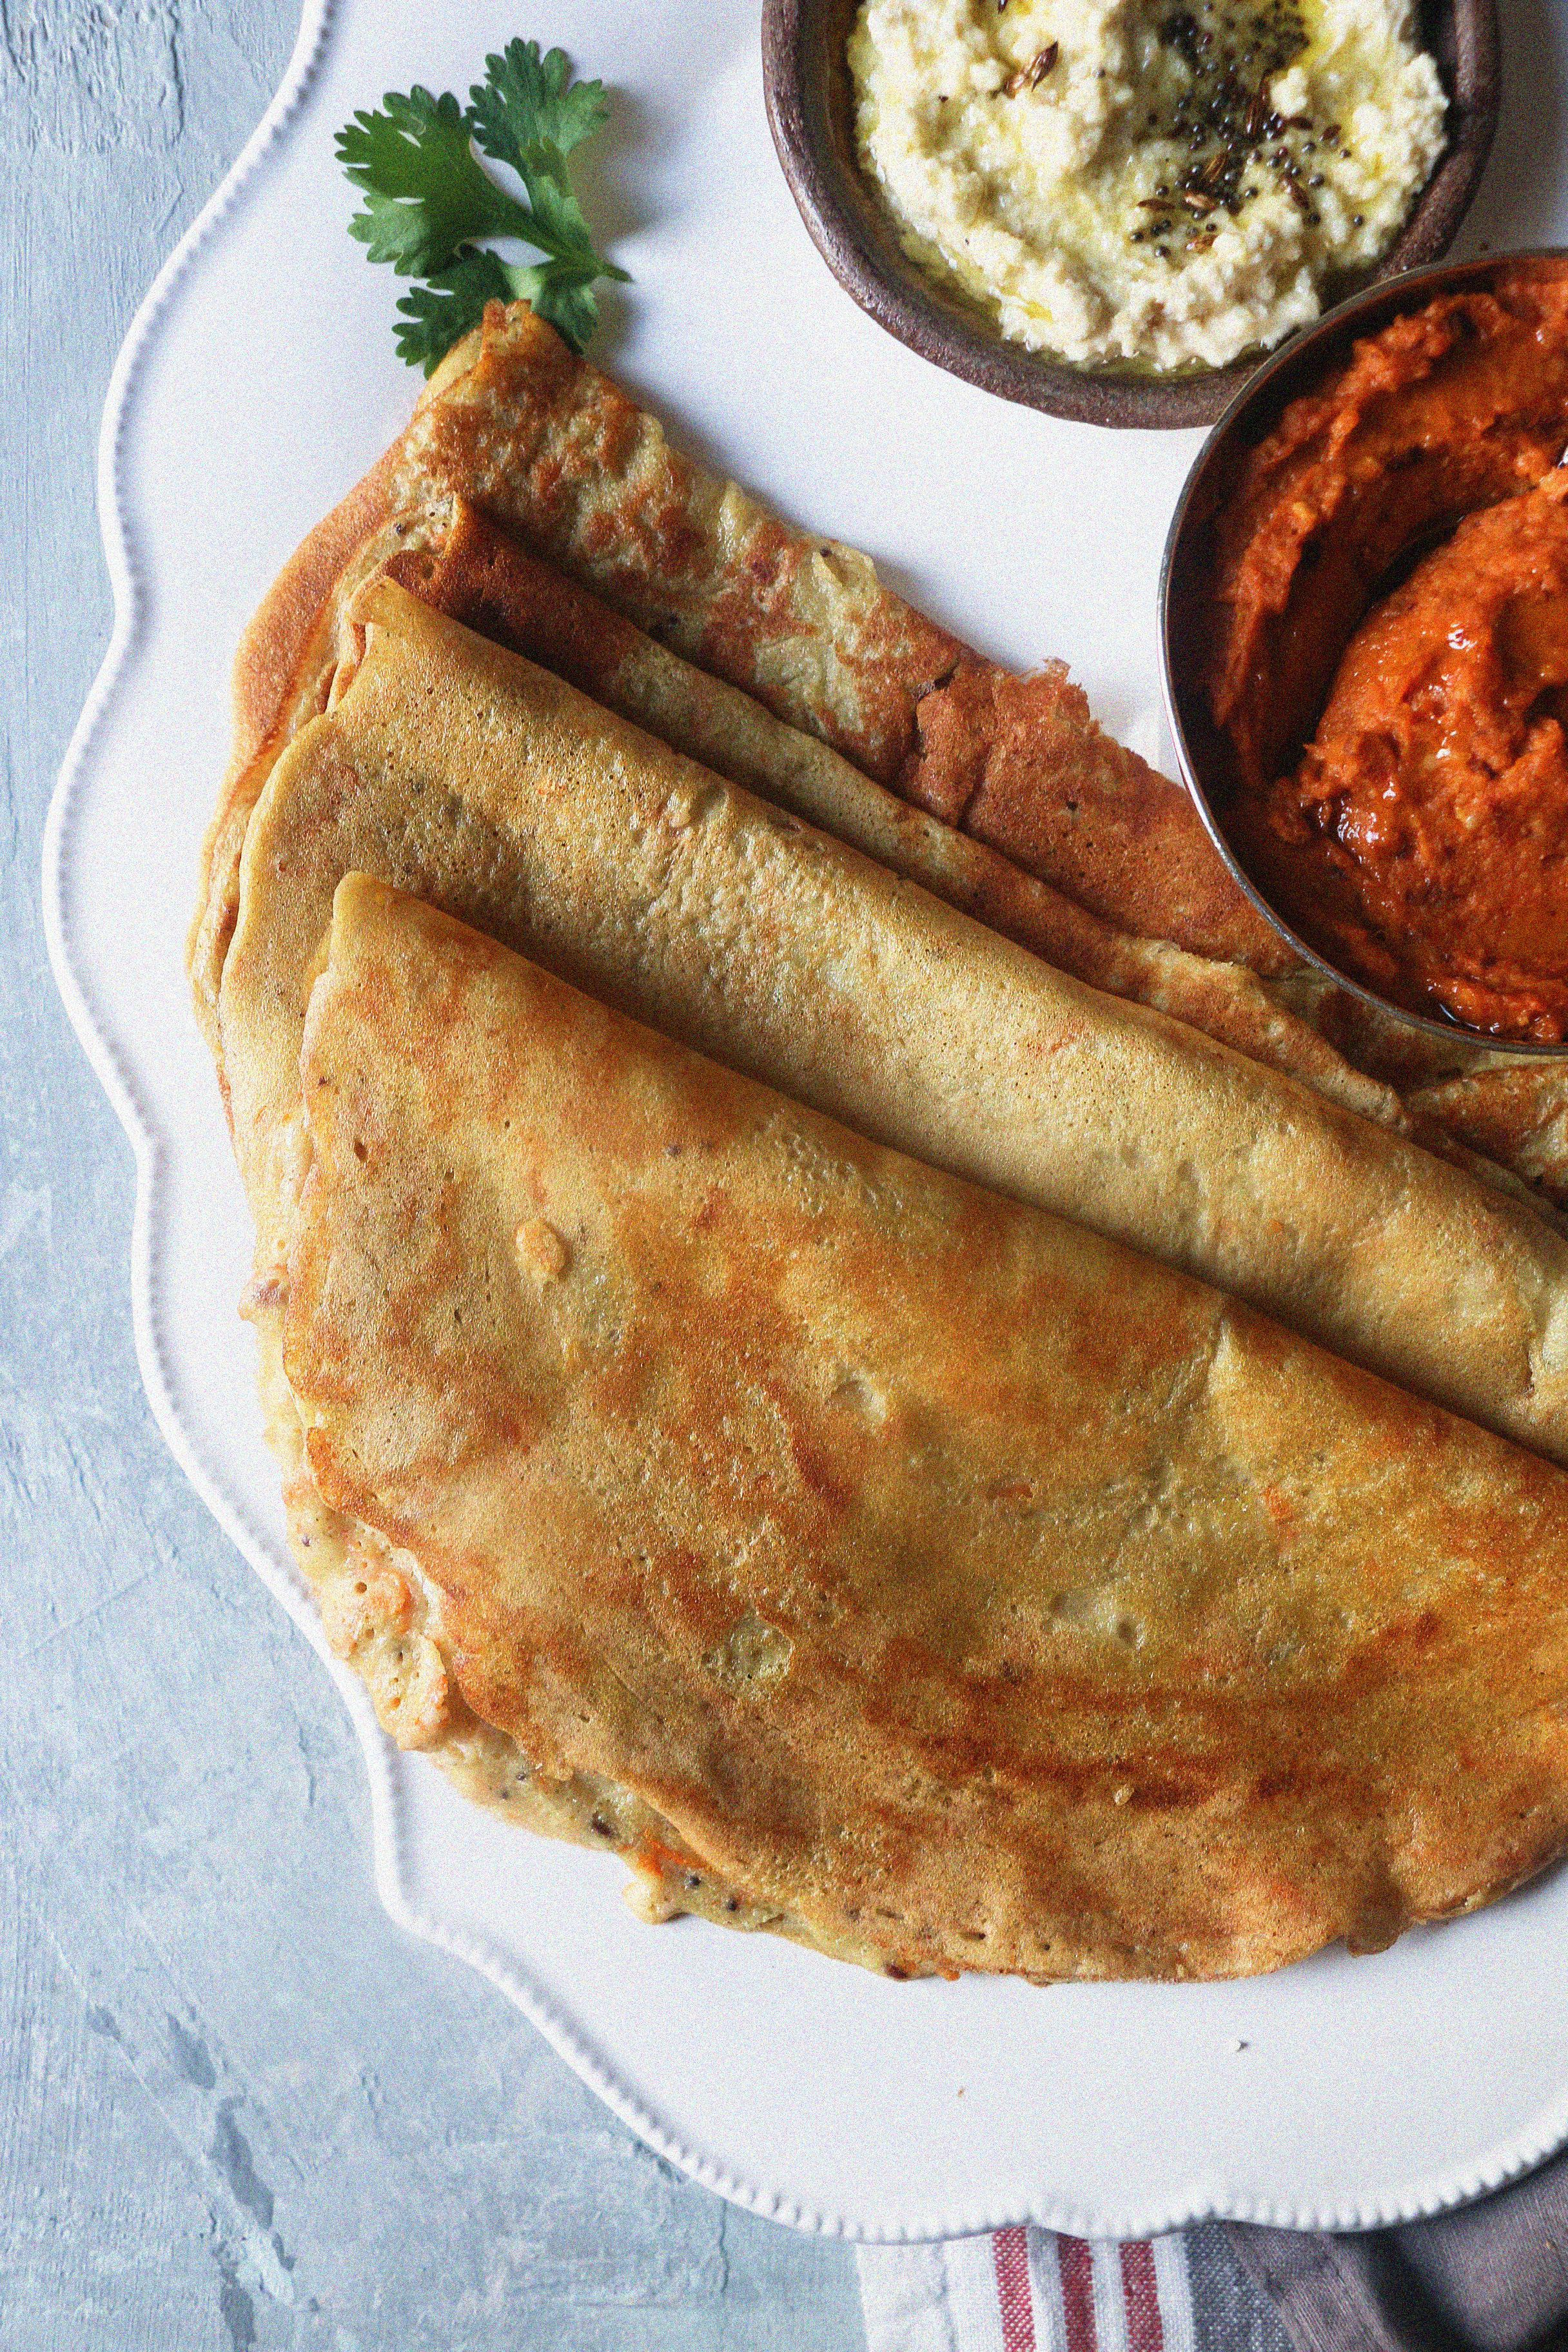dosa: (280, 873, 1568, 1978), (191, 313, 1194, 1279)
